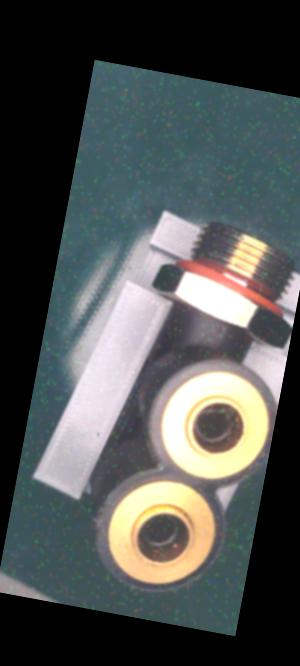off-centered: (184, 397, 243, 456)
white mark: (209, 321, 227, 348)
